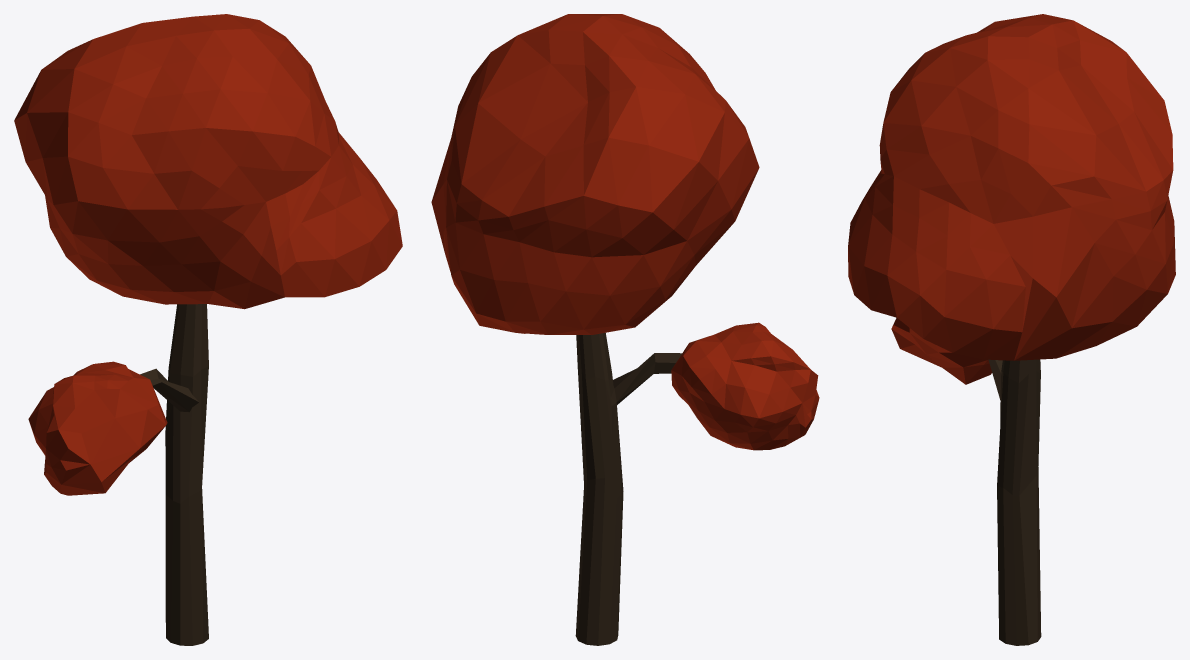
Rendered from Tree.obj.
3 views of the same model, side by side, from view 1: azimuth 30°, elevation 25°; view 2: azimuth 150°, elevation 25°; view 3: azimuth 270°, elevation 25° (orthographic).
Parts seen in each view (by area): view 1: Crown_Icosphere.002, Trunk_Icosphere.001, Branch_Icosphere.003; view 2: Crown_Icosphere.002, Branch_Icosphere.003, Trunk_Icosphere.001; view 3: Crown_Icosphere.002, Trunk_Icosphere.001, Branch_Icosphere.003.
Part boxes in pixels (x1,y1,x2,y2): Crown_Icosphere.002: (14, 14, 402, 309); Trunk_Icosphere.001: (140, 304, 208, 645); Branch_Icosphere.003: (28, 361, 167, 495); Crown_Icosphere.002: (431, 14, 759, 334); Branch_Icosphere.003: (671, 322, 819, 450); Trunk_Icosphere.001: (575, 332, 682, 645); Crown_Icosphere.002: (848, 14, 1175, 360); Trunk_Icosphere.001: (988, 359, 1041, 645); Branch_Icosphere.003: (891, 317, 992, 384).
Bounding box in the file's own units: 2.73 × 4.66 × 2.29.
